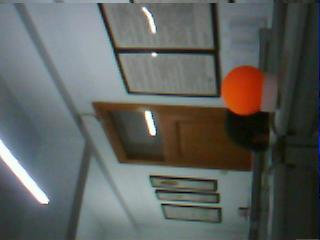oball: (221, 65, 261, 114)
